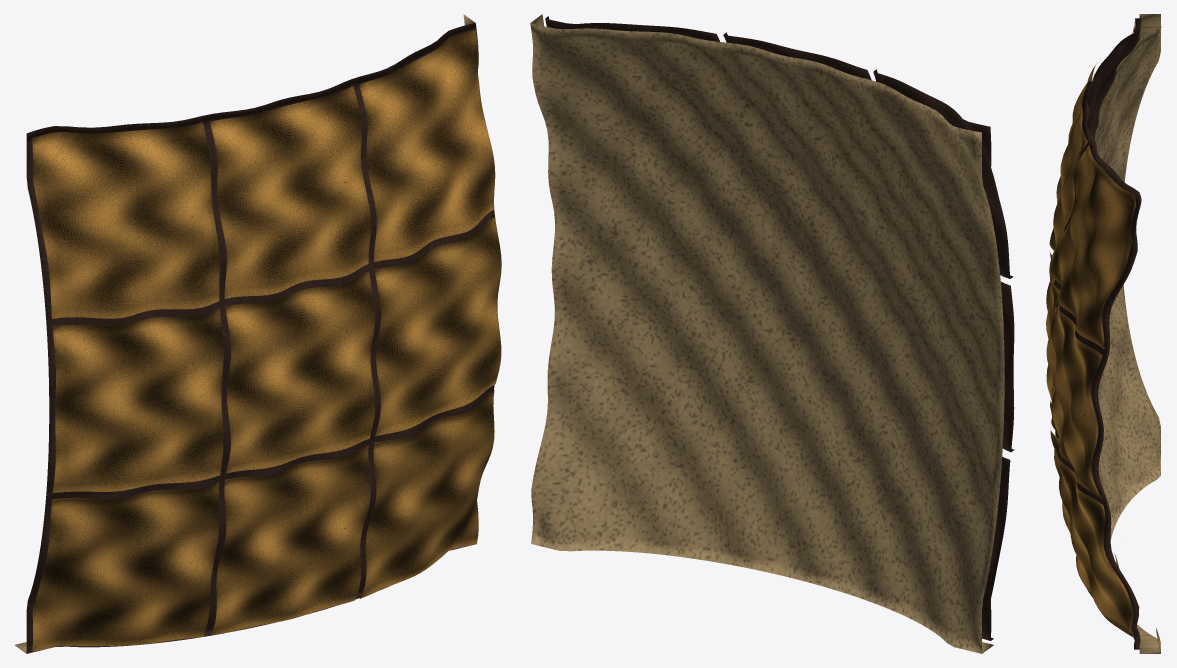
File: tortoise_shell_plate.glb
3 views of the same model, side by side, from view 1: azimuth 30°, elevation 25°; view 2: azimuth 150°, elevation 25°; view 3: azimuth 270°, elevation 25° (orthographic). The views are drawn at different scales.
Visible parts, largest first — view 1: Amber tortoiseshell growth laminae, Dark tortoise scute grooves; view 2: Porous bone shell interior, Dark tortoise scute grooves; view 3: Amber tortoiseshell growth laminae, Porous bone shell interior, Dark tortoise scute grooves.
Boxes of the visible parts, x1,y1,x2,y2 form: Amber tortoiseshell growth laminae: (32,29,501,651); Dark tortoise scute grooves: (26,23,496,653); Porous bone shell interior: (530,14,1004,653); Dark tortoise scute grooves: (545,16,1014,640); Amber tortoiseshell growth laminae: (1046,18,1135,639); Porous bone shell interior: (1094,14,1161,653); Dark tortoise scute grooves: (1053,15,1141,649).
Bounding box in the file's own units: 0.38 × 0.42 × 0.0988.
3 materials, 3 textured.
